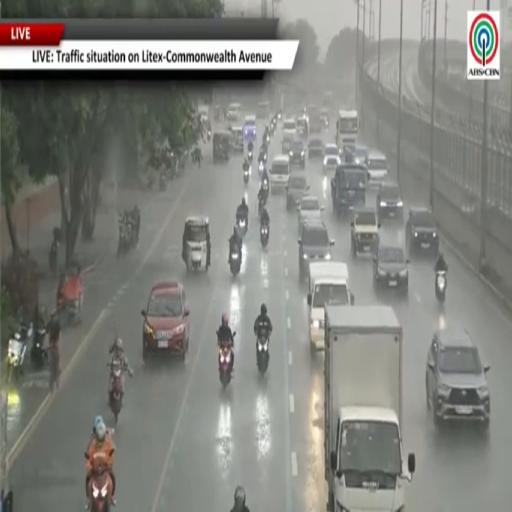bus: (336, 110, 359, 148)
car: (426, 328, 490, 428), (142, 281, 190, 360), (298, 220, 334, 281), (373, 244, 408, 294), (406, 207, 439, 253), (351, 207, 380, 257), (376, 182, 403, 221), (298, 197, 323, 235), (286, 172, 309, 210), (268, 155, 290, 194), (365, 150, 389, 184), (323, 143, 341, 172), (289, 139, 305, 169), (344, 144, 368, 164), (244, 115, 257, 142), (231, 126, 244, 152), (308, 138, 324, 159), (283, 118, 297, 138), (297, 115, 309, 138), (227, 103, 241, 122), (309, 116, 323, 134), (319, 108, 329, 129)
motorcycle: (7, 323, 32, 382), (88, 454, 112, 511), (57, 275, 83, 325), (108, 360, 125, 423), (30, 326, 47, 369), (117, 220, 136, 257), (219, 344, 233, 389), (49, 228, 61, 273), (48, 345, 59, 392), (257, 333, 269, 375), (49, 239, 59, 273), (230, 247, 241, 277), (436, 271, 446, 303), (237, 217, 247, 238), (261, 223, 269, 248), (258, 198, 266, 217), (159, 173, 166, 191), (261, 179, 269, 194), (258, 161, 264, 177), (244, 169, 249, 184), (248, 151, 253, 162), (265, 133, 270, 143), (277, 111, 282, 120), (207, 130, 211, 141)
truck: (324, 306, 415, 511), (307, 262, 354, 350), (331, 164, 366, 217)
